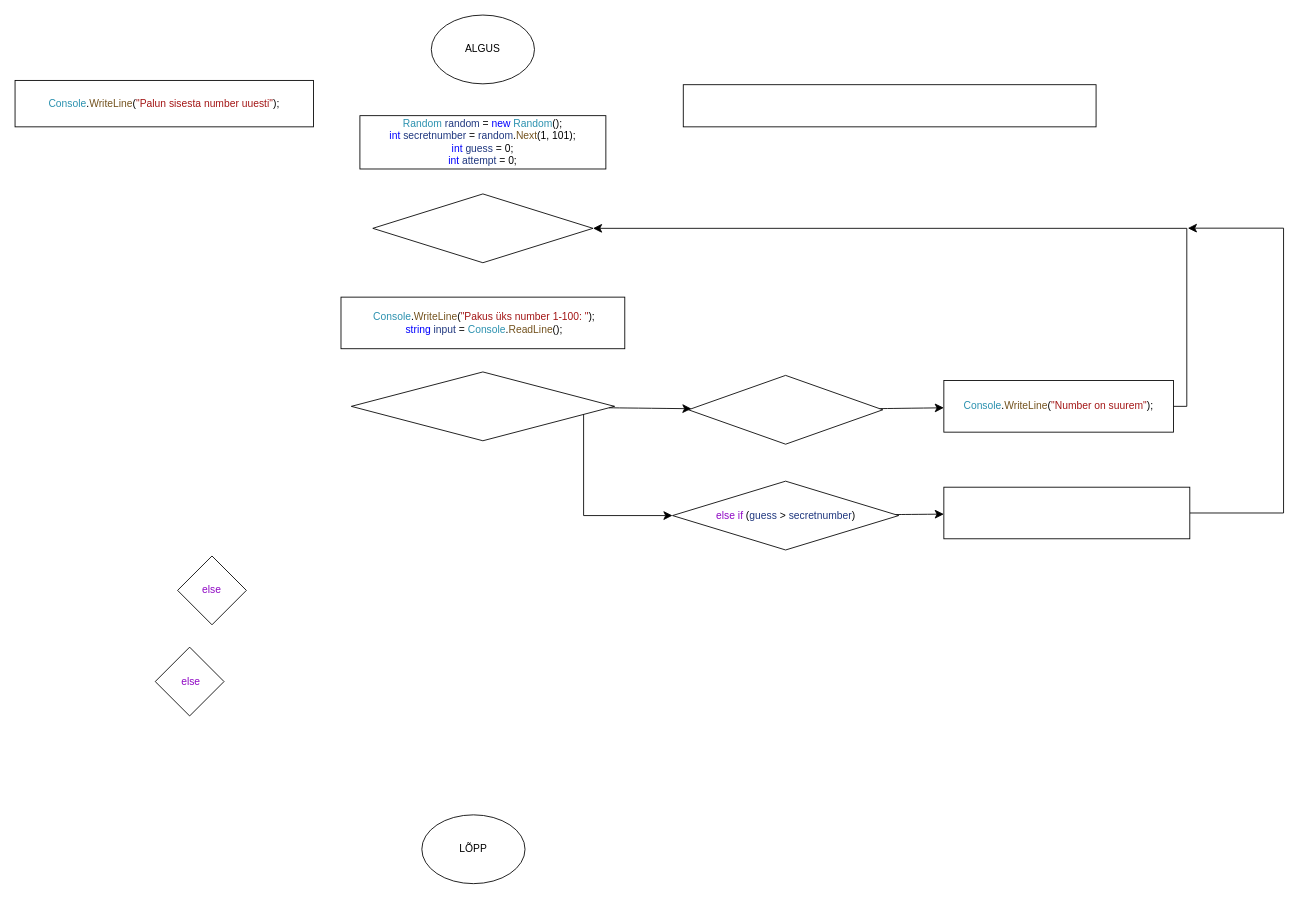
This 1307x899 diagram has some shape labels left out. The centre of each missing label's shape, as x and y in pixels:
Console . WriteLine ( "Number on väiksem" );: [1066,512]
Console . WriteLine ( $"arvasid numbri ära! Number oli { secretnumber } " );: [889,105]
if ( guess < secretnumber ): [785,409]
if ( int . TryParse ( input , out guess )): [482,406]
while ( guess != secretnumber ): [482,228]
